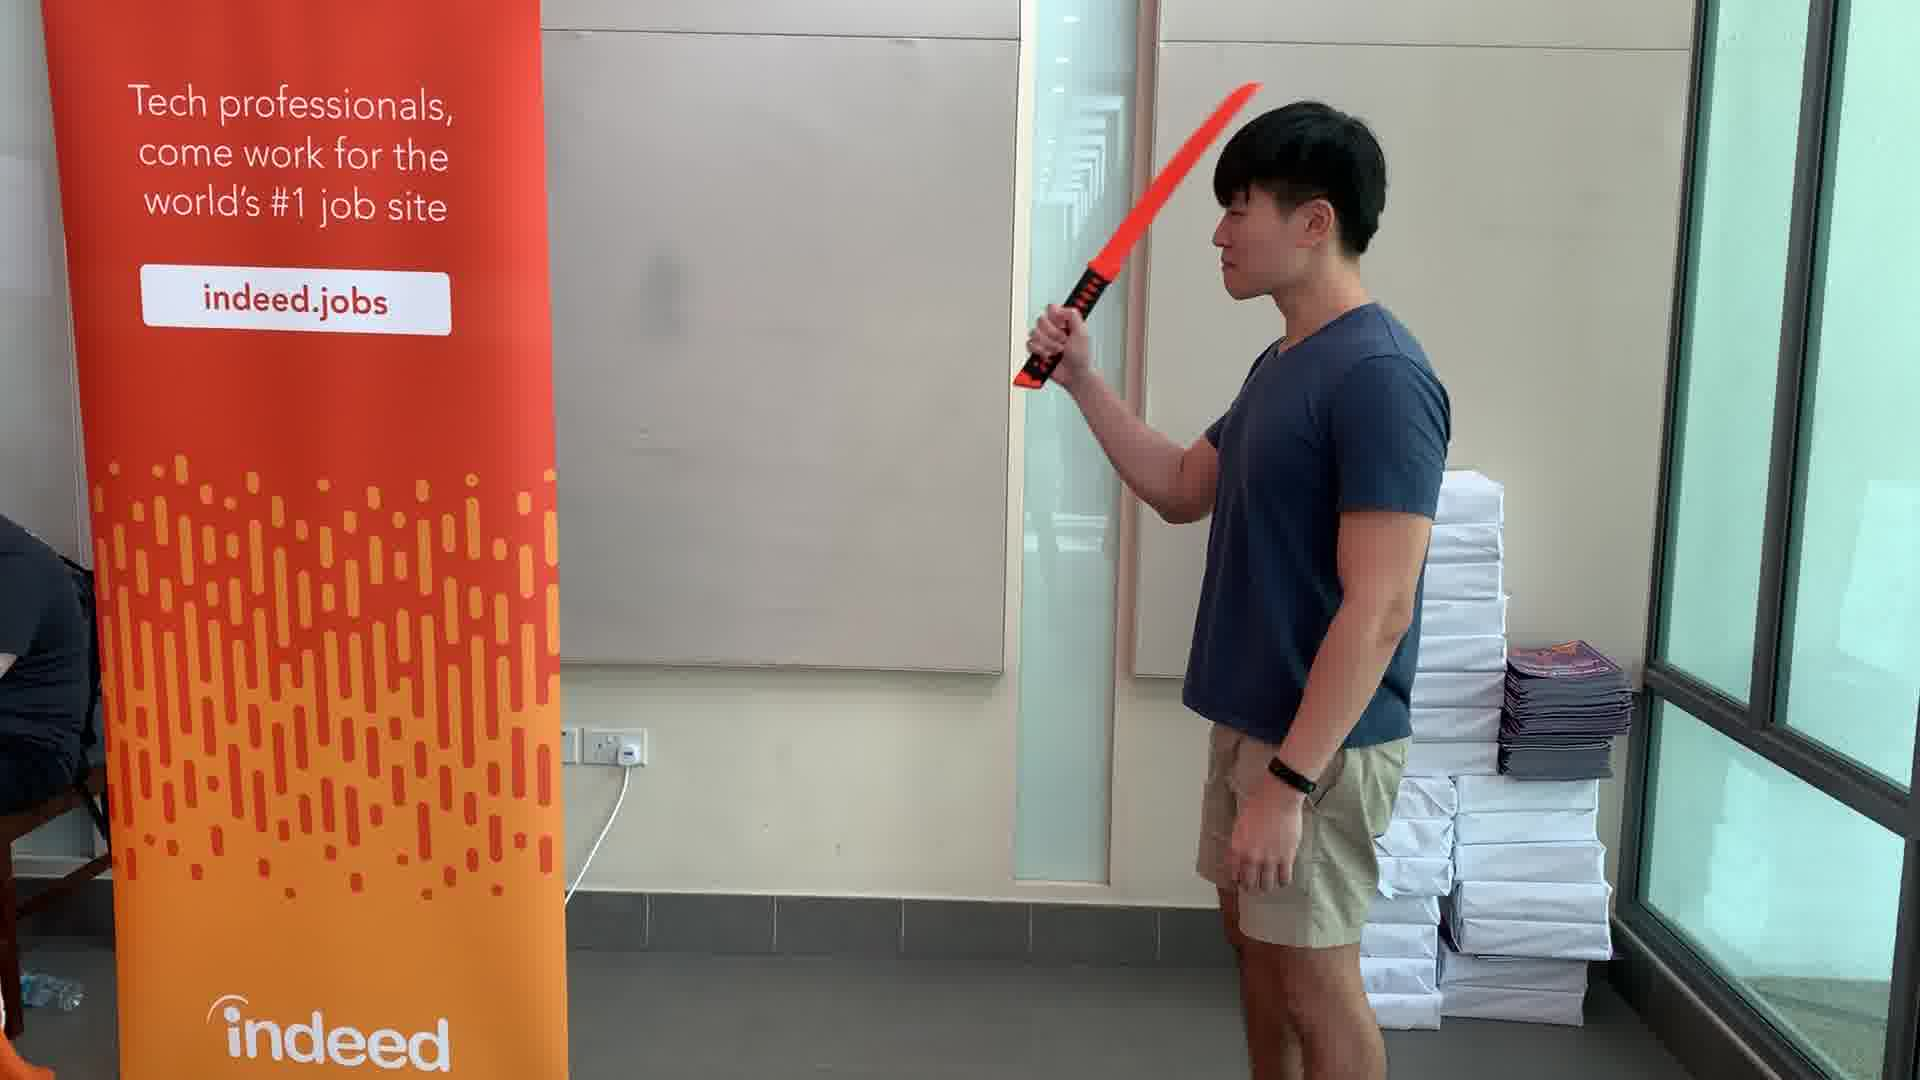knife: (1013, 70, 1274, 400)
